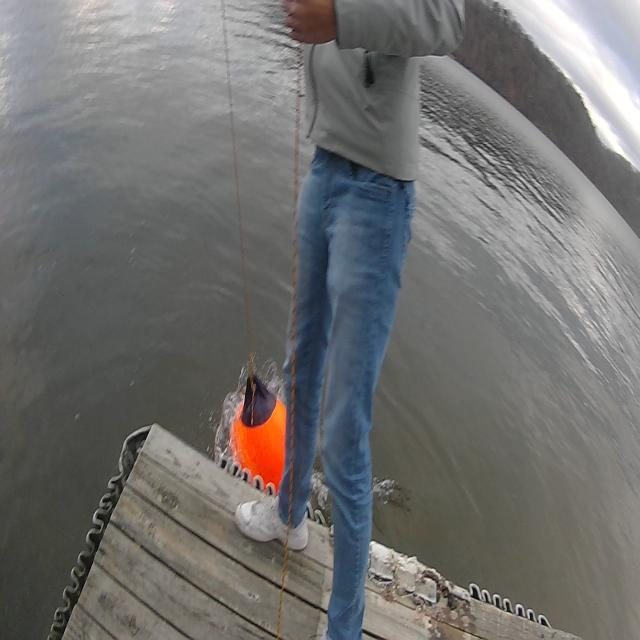Buoy: (231, 400, 287, 492)
